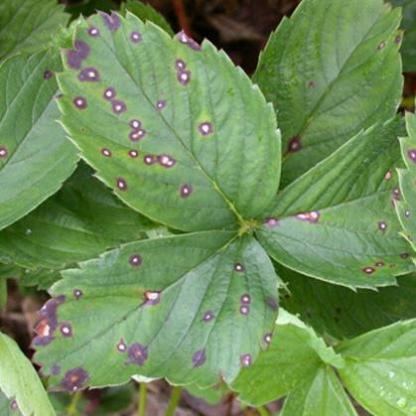Strawberry_Leaf_Spot: (52, 8, 283, 235), (27, 231, 280, 396), (250, 0, 408, 192), (250, 113, 415, 293), (0, 0, 82, 233), (270, 256, 415, 342), (1, 332, 57, 416)
